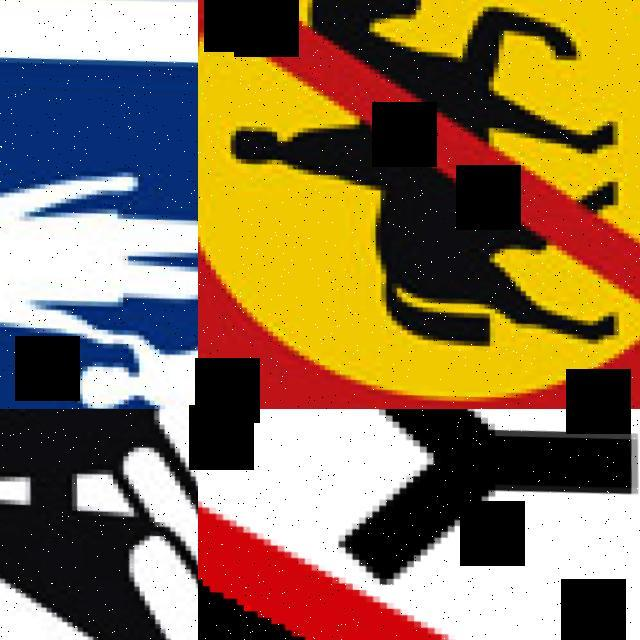12: (0, 409, 198, 640)
35: (198, 0, 640, 409)
50: (0, 0, 198, 409)
Y-junction: (198, 409, 640, 640)
